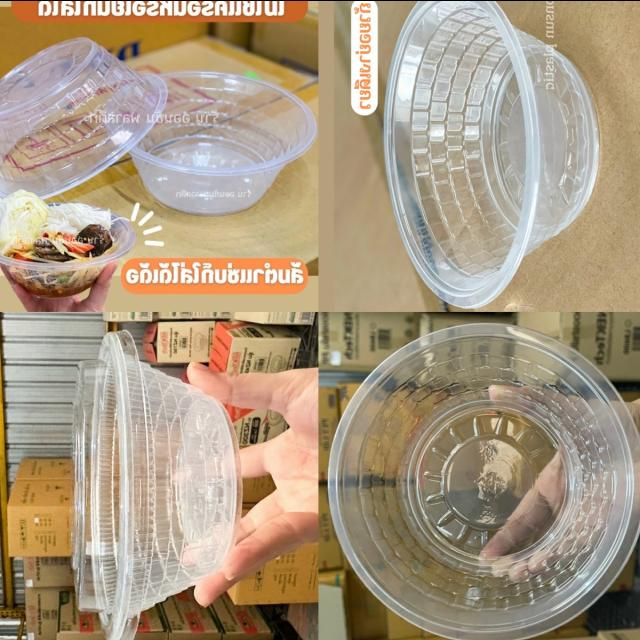plastik: (328, 323, 640, 640), (384, 0, 598, 307), (73, 330, 241, 640), (0, 36, 167, 198), (132, 70, 316, 214)
